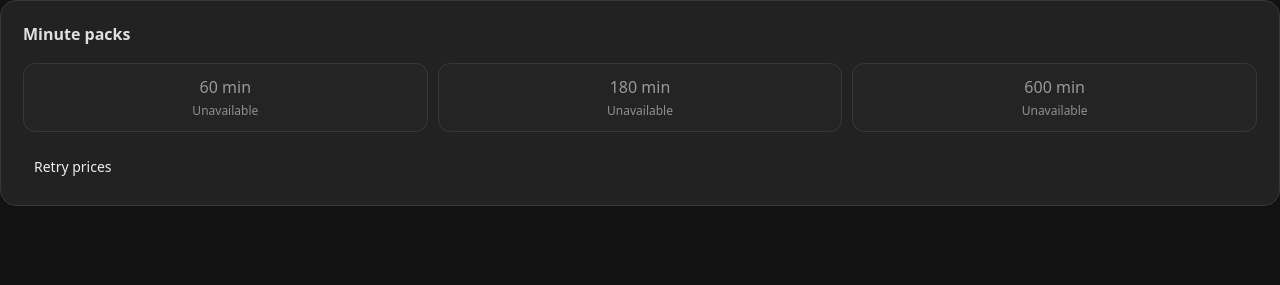
Test: retries prices and only enables offers returned by the store
Step 1. Click the button "Retry prices" → coordinates (73, 166), box [23,150,122,183]
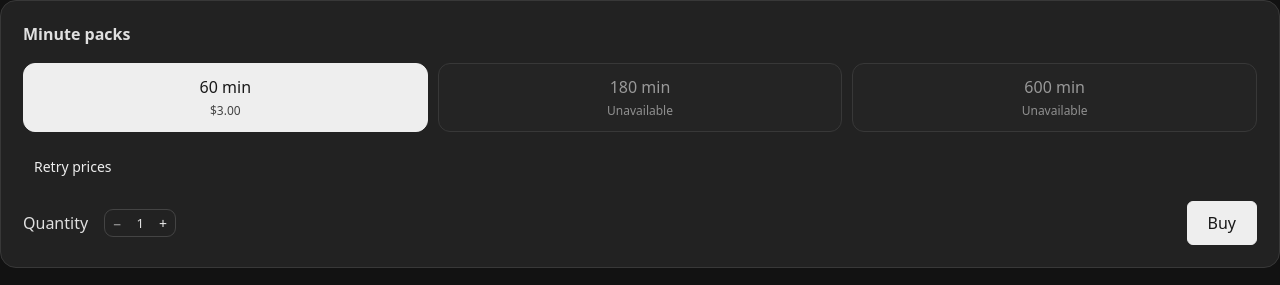
Expected: the button with aria-label "180 usage minutes · Price unavailable" is disabled, [438,63,842,132]
Now the button with aria-label "60 usage minutes · $3.00" is enabled, box [23,63,428,132]
